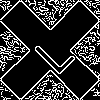L: (25, 25, 77, 77)
